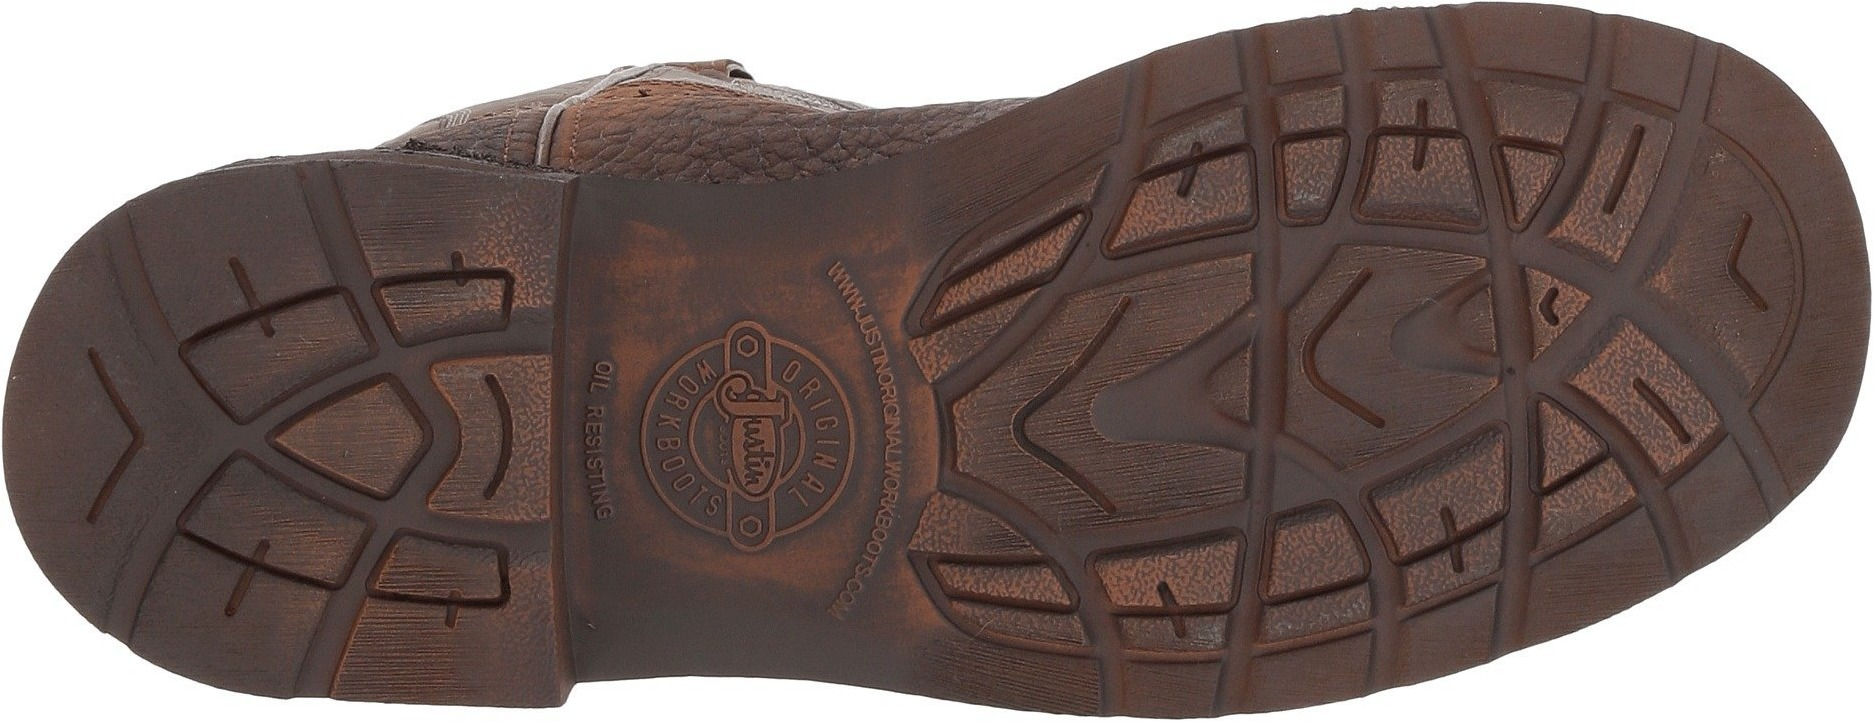chevron: (33, 313, 161, 550), (1710, 183, 1777, 344), (1507, 257, 1600, 365)
exclude: (558, 155, 911, 699)
quad: (1061, 525, 1270, 660), (1509, 380, 1660, 552), (914, 212, 1097, 335), (338, 246, 539, 356), (1250, 86, 1372, 233), (365, 509, 523, 620)
triangle: (1509, 380, 1660, 552), (1507, 257, 1600, 365)
